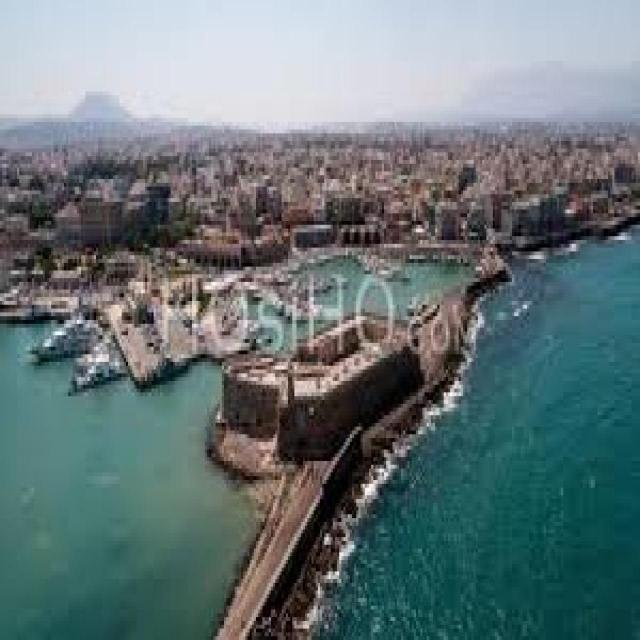Kules: (219, 289, 425, 465)
